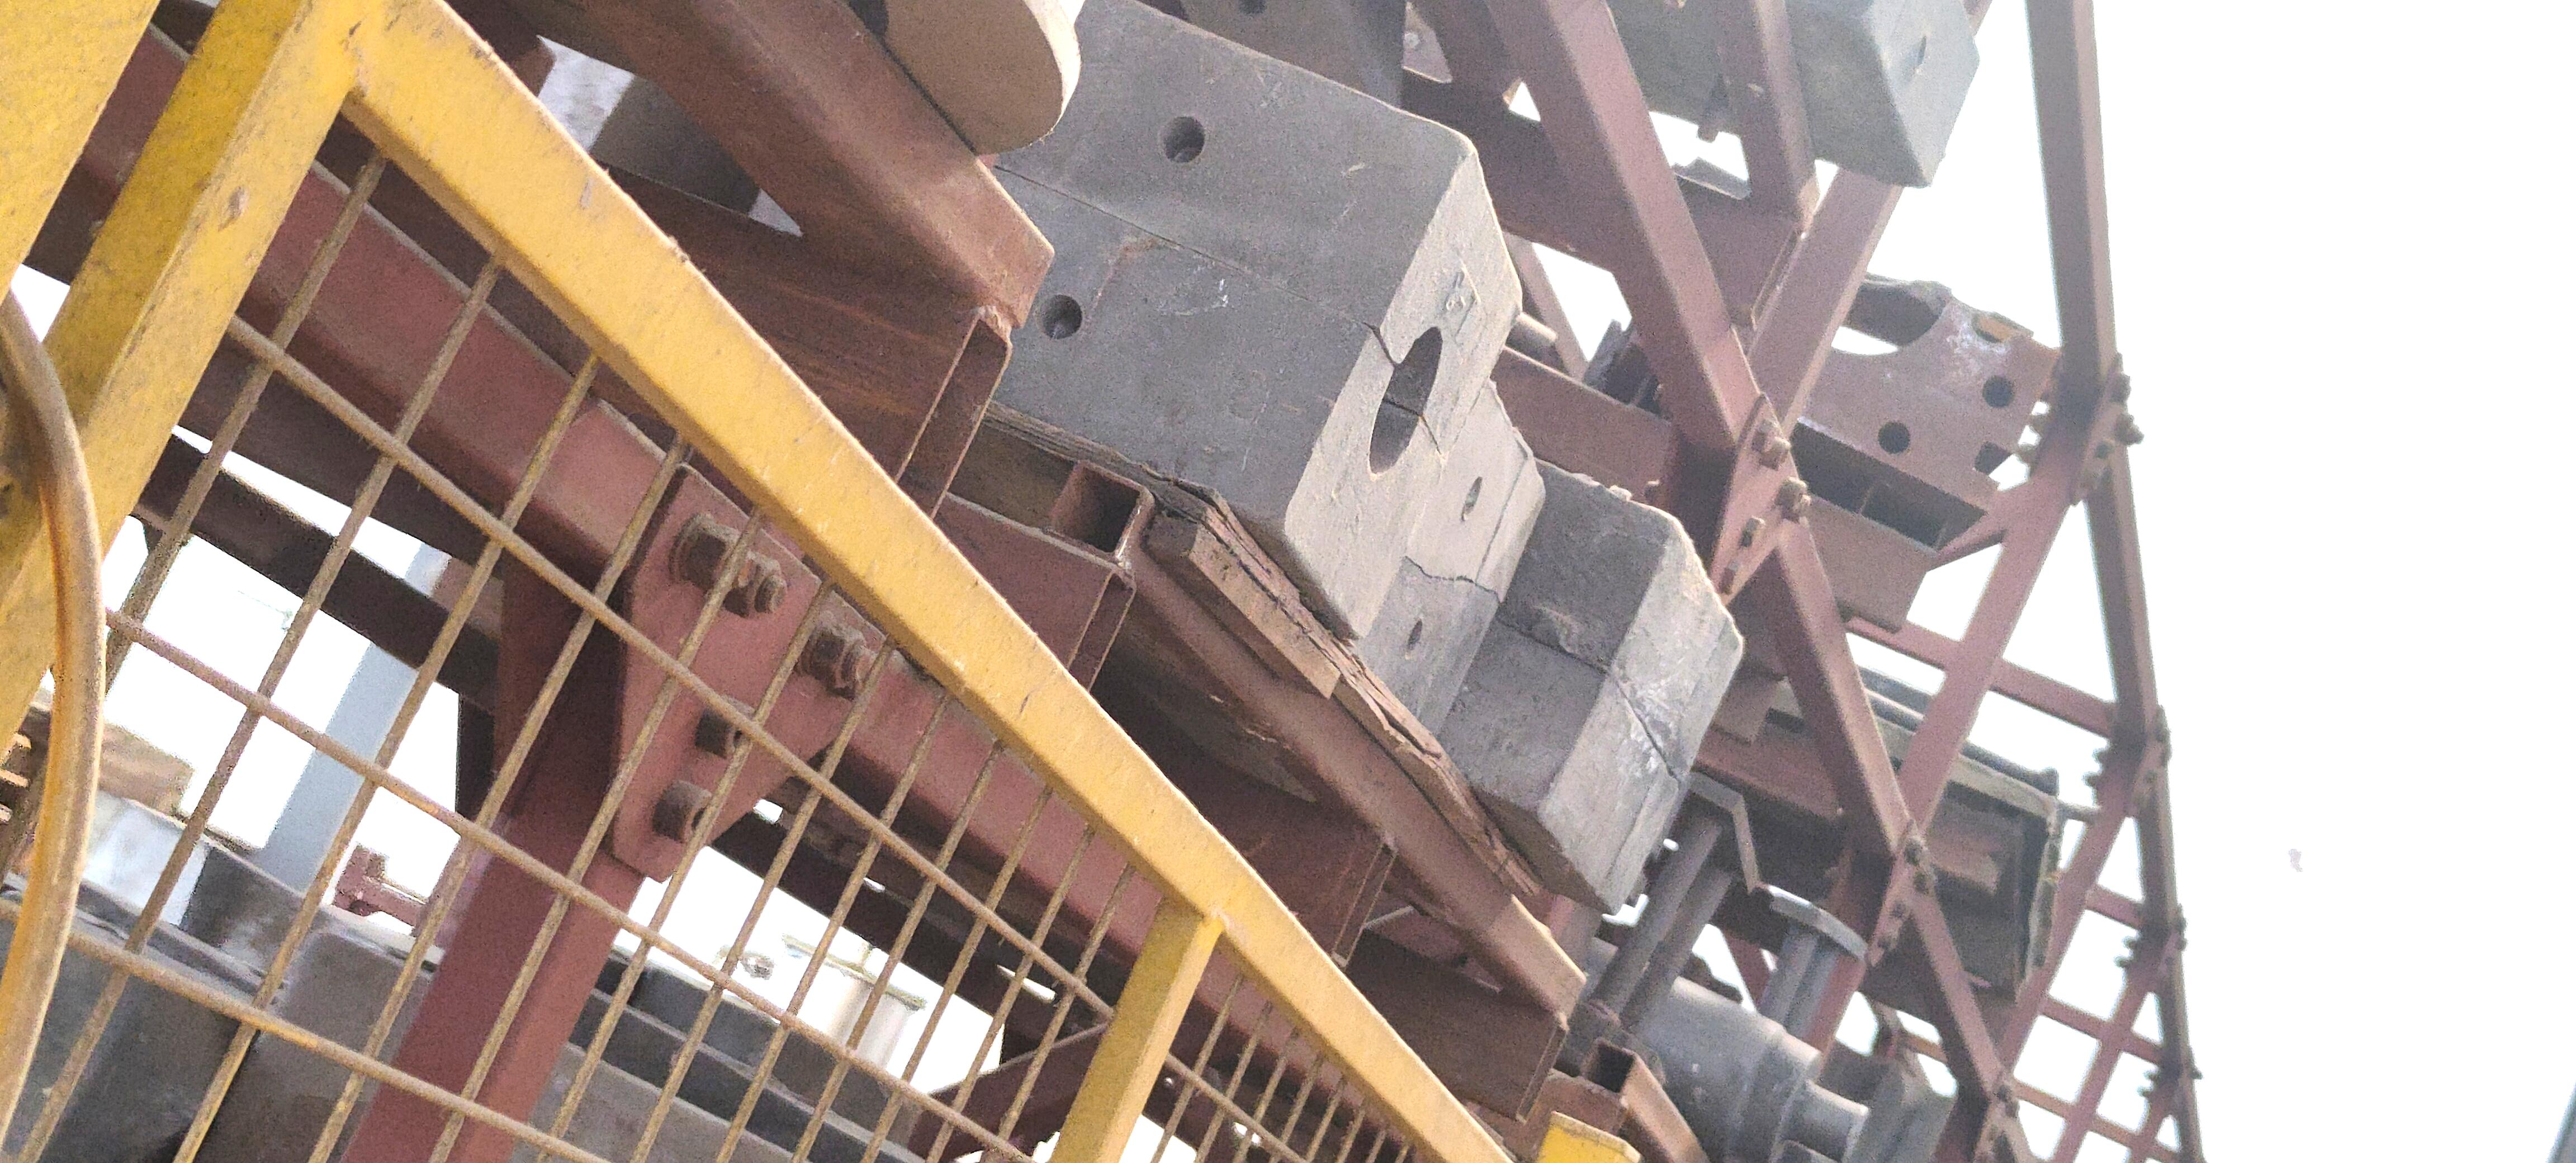pouring hole: (1368, 322, 1446, 476)
